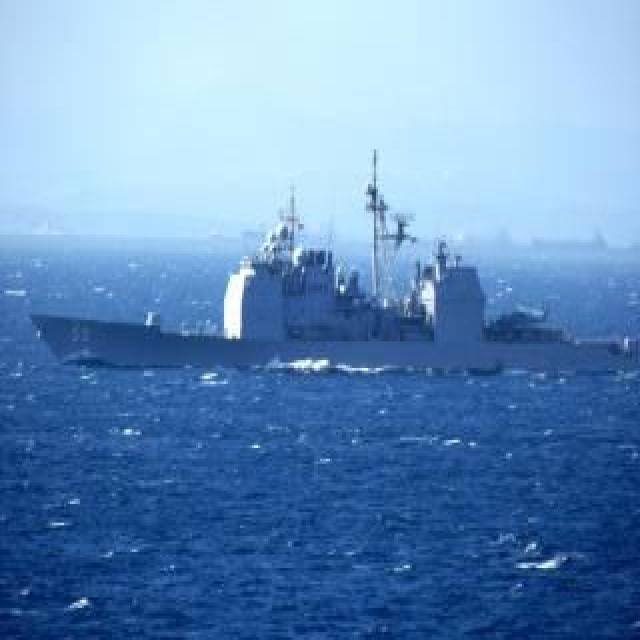navalvessels: (27, 146, 640, 377)
